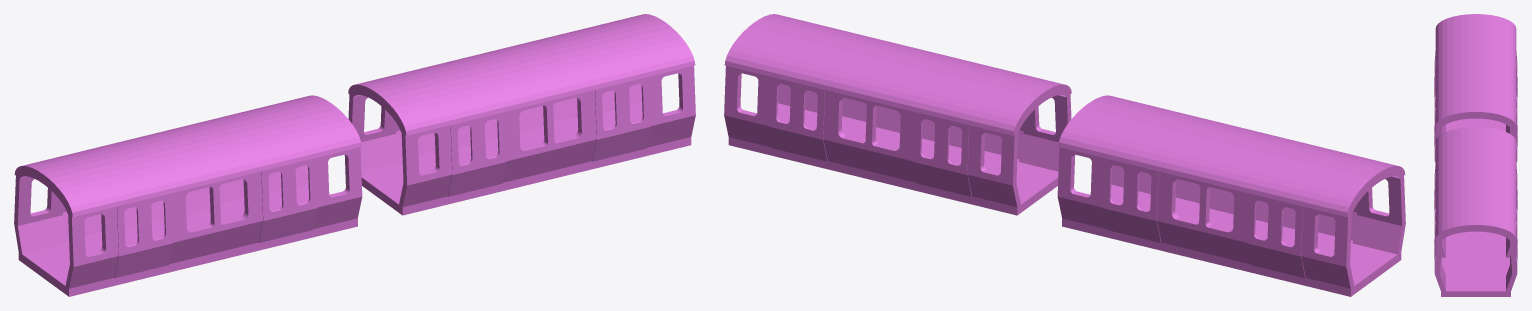
The model's file is train-glb-solo-ani-01.glb.
3 views of the same model, side by side, from view 1: azimuth 30°, elevation 25°; view 2: azimuth 150°, elevation 25°; view 3: azimuth 270°, elevation 25° (orthographic). The views are drawn at different scales.
Visible parts, largest first — view 1: Train-Complete, Door-right, Door-Left; view 2: Train-Complete, Door-right, Door-Left; view 3: Train-Complete, Door-Left, Door-right.
Part boxes in pixels (left/top/right/bottom): Train-Complete: left=14, top=14, right=695, bottom=296; Door-right: left=63, top=100, right=569, bottom=240; Door-Left: left=89, top=97, right=577, bottom=234; Train-Complete: left=724, top=14, right=1405, bottom=296; Door-right: left=796, top=83, right=1305, bottom=278; Door-Left: left=769, top=77, right=1277, bottom=271; Train-Complete: left=1434, top=14, right=1517, bottom=296; Door-Left: left=1516, top=71, right=1517, bottom=258; Door-right: left=1510, top=62, right=1517, bottom=263.
Bounding box in the file's own units: 29.92 × 4.77 × 5.
